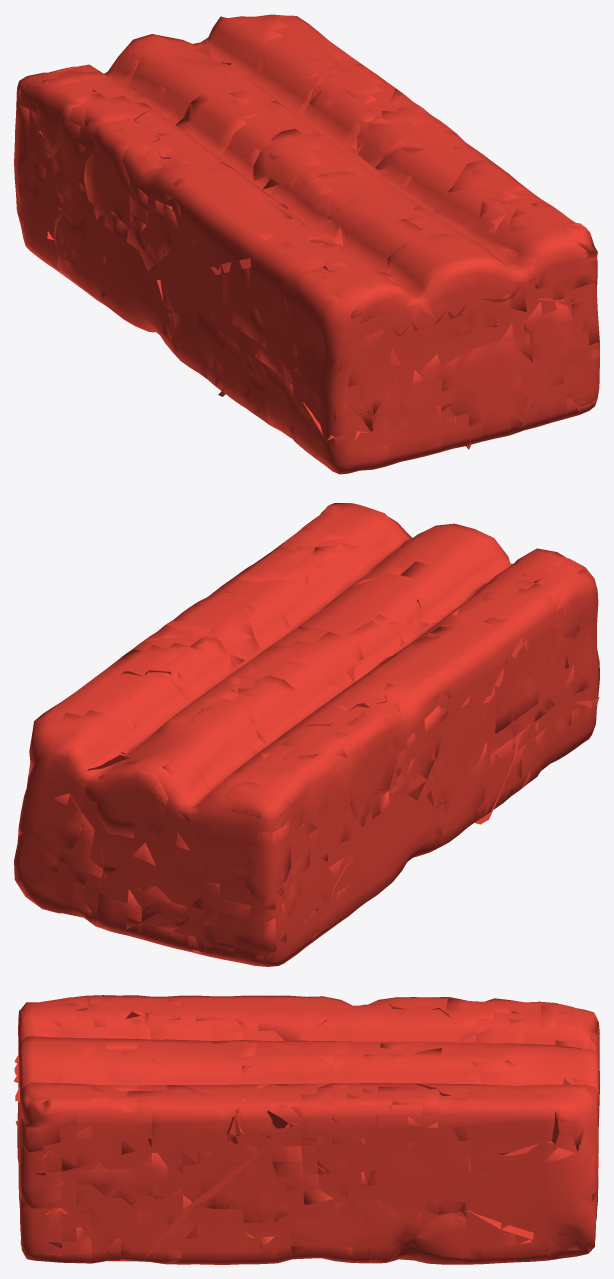
Rendered from Brick.fbx.
3 views of the same model, one above another, from view 1: azimuth 30°, elevation 25°; view 2: azimuth 150°, elevation 25°; view 3: azimuth 270°, elevation 25° (orthographic). The views are drawn at different scales.
Parts seen in each view (by area): view 1: Retopo_3DModel_mesh, Retopo_3DModel_mesh.001_cell, Retopo_3DModel_mesh.001_cell.001; view 2: Retopo_3DModel_mesh, Retopo_3DModel_mesh.001_cell.001, Retopo_3DModel_mesh.001_cell; view 3: Retopo_3DModel_mesh, Retopo_3DModel_mesh.001_cell.001, Retopo_3DModel_mesh.001_cell.
Part boxes in pixels (left/top/right/bottom): Retopo_3DModel_mesh: left=14, top=14, right=599, bottom=473; Retopo_3DModel_mesh.001_cell: left=17, top=15, right=599, bottom=468; Retopo_3DModel_mesh.001_cell.001: left=14, top=14, right=598, bottom=474; Retopo_3DModel_mesh: left=14, top=503, right=599, bottom=966; Retopo_3DModel_mesh.001_cell.001: left=14, top=506, right=599, bottom=966; Retopo_3DModel_mesh.001_cell: left=14, top=510, right=599, bottom=955; Retopo_3DModel_mesh: left=17, top=995, right=599, bottom=1264; Retopo_3DModel_mesh.001_cell.001: left=14, top=995, right=599, bottom=1263; Retopo_3DModel_mesh.001_cell: left=18, top=995, right=599, bottom=1264.
Size of the model in its own units: 7.14 by 4.57 by 14.66.
